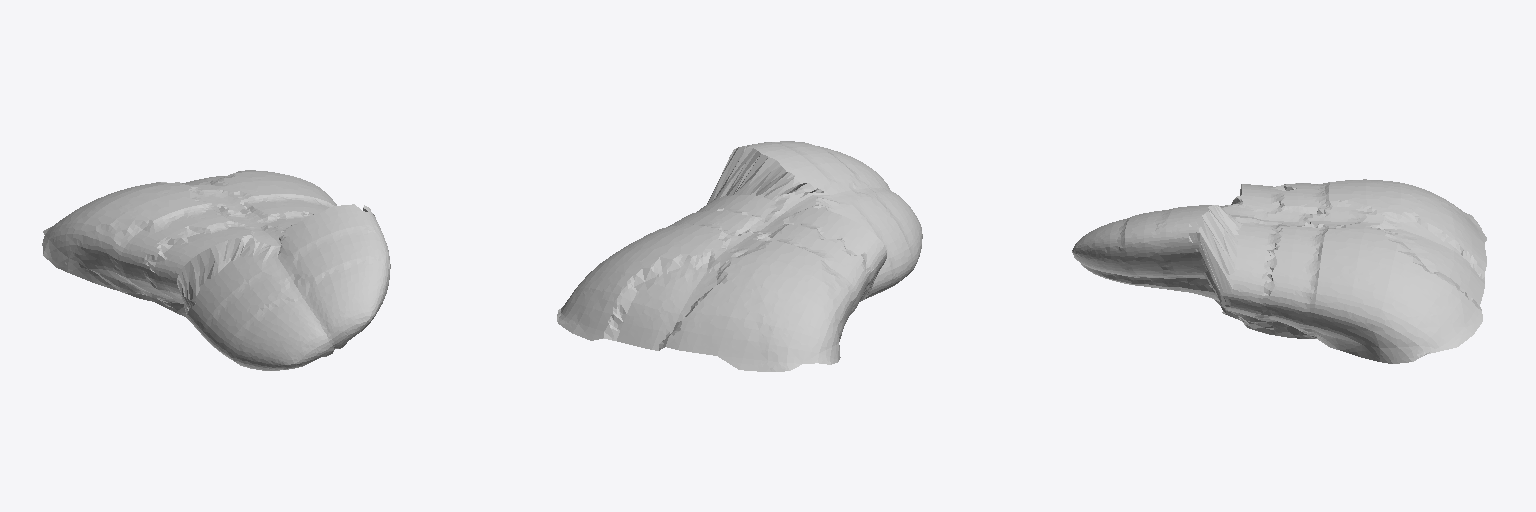
The model's file is tongue.obj.
The picture shows the model from 3 angles: view 1: azimuth 30°, elevation 25°; view 2: azimuth 150°, elevation 25°; view 3: azimuth 270°, elevation 25°; orthographic projection.
Parts seen in each view (by area): view 1: set1 set2 tweakSet2; view 2: set1 set2 tweakSet2; view 3: set1 set2 tweakSet2.
Part boxes in pixels (x1,y1,x2,y2): set1 set2 tweakSet2: (42, 170, 390, 370); set1 set2 tweakSet2: (557, 141, 922, 371); set1 set2 tweakSet2: (1072, 179, 1486, 363).
Size of the model in its own units: 0.0522 by 0.024 by 0.0681.